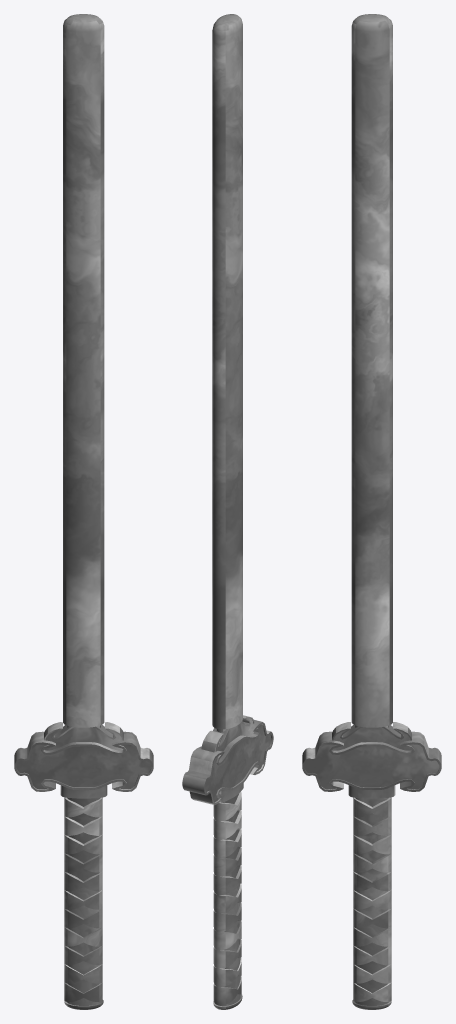
Rendered from Sm_katana_03.fbx.
3 views of the same model, side by side, from view 1: azimuth 90°, elevation 25°; view 2: azimuth 150°, elevation 25°; view 3: azimuth 270°, elevation 25° (orthographic).
Visible parts, largest first — view 1: Sm_katana_03; view 2: Sm_katana_03; view 3: Sm_katana_03.
Boxes of the visible parts, x1,y1,x2,y2 form: Sm_katana_03: (14, 14, 153, 1009); Sm_katana_03: (182, 14, 273, 1009); Sm_katana_03: (302, 14, 441, 1009).
Size of the model in its own units: 3.63 by 19.11 by 149.
Materials: 1 (1 with a texture image).
